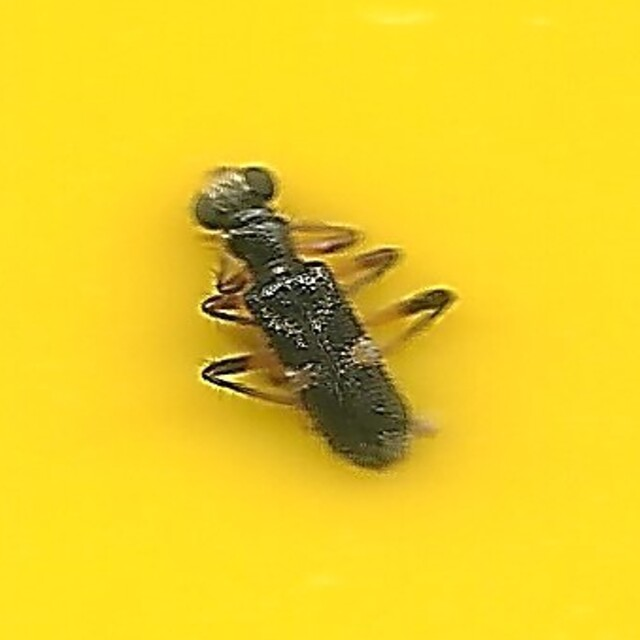Coleoptera: (189, 163, 451, 477)
